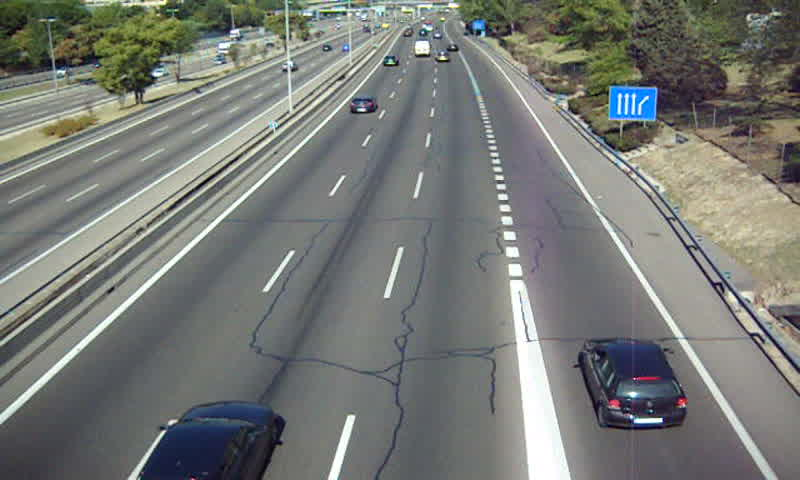car: (139, 402, 276, 480), (582, 339, 688, 426), (348, 96, 377, 115), (381, 54, 401, 66)
